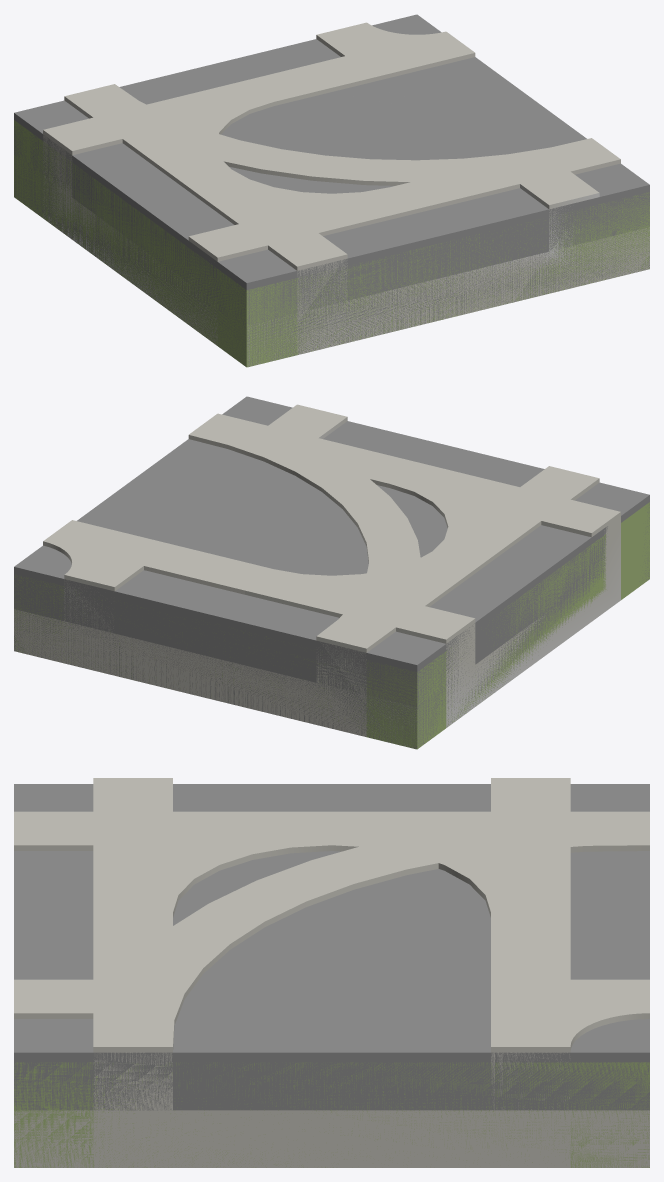
File: kenney_road_tiles.glb
The picture shows the model from 3 angles, top to bottom: view 1: azimuth 30°, elevation 25°; view 2: azimuth 150°, elevation 25°; view 3: azimuth 270°, elevation 25°; orthographic projection. The views are drawn at different scales.
Visible parts, largest first — view 1: roadTile_034, roadTile_027, roadTile_141, roadTile_030, roadTile_162, roadTile_038, roadTile_026, roadTile_153, roadTile_035, roadTile_150, roadTile_163; view 2: roadTile_027, roadTile_034, roadTile_141, roadTile_038, roadTile_035, roadTile_026, roadTile_162, roadTile_153, roadTile_030, roadTile_150; view 3: roadTile_027, roadTile_034, roadTile_141, roadTile_162, roadTile_026, roadTile_153, roadTile_035, roadTile_038, roadTile_163, roadTile_030, roadTile_150.
Part boxes in pixels (x1=…): roadTile_034: x1=14, y1=15, x2=649, y2=366; roadTile_027: x1=14, y1=14, x2=649, y2=367; roadTile_141: x1=14, y1=22, x2=649, y2=364; roadTile_030: x1=15, y1=40, x2=560, y2=366; roadTile_162: x1=46, y1=32, x2=649, y2=365; roadTile_038: x1=93, y1=33, x2=637, y2=366; roadTile_026: x1=157, y1=32, x2=620, y2=213; roadTile_153: x1=65, y1=23, x2=617, y2=185; roadTile_035: x1=70, y1=15, x2=620, y2=244; roadTile_150: x1=137, y1=82, x2=649, y2=354; roadTile_163: x1=247, y1=195, x2=649, y2=366; roadTile_027: x1=14, y1=396, x2=649, y2=749; roadTile_034: x1=14, y1=396, x2=649, y2=748; roadTile_141: x1=14, y1=404, x2=649, y2=747; roadTile_038: x1=47, y1=414, x2=649, y2=682; roadTile_035: x1=16, y1=414, x2=560, y2=651; roadTile_026: x1=46, y1=414, x2=506, y2=600; roadTile_162: x1=14, y1=414, x2=619, y2=746; roadTile_153: x1=43, y1=413, x2=420, y2=648; roadTile_030: x1=79, y1=422, x2=648, y2=747; roadTile_150: x1=183, y1=421, x2=543, y2=637; roadTile_027: x1=14, y1=811, x2=649, y2=1167; roadTile_034: x1=14, y1=784, x2=649, y2=1052; roadTile_141: x1=14, y1=778, x2=649, y2=1167; roadTile_162: x1=93, y1=778, x2=570, y2=1051; roadTile_026: x1=93, y1=811, x2=570, y2=1047; roadTile_153: x1=96, y1=812, x2=649, y2=1050; roadTile_035: x1=93, y1=811, x2=649, y2=1167; roadTile_038: x1=94, y1=811, x2=570, y2=1166; roadTile_163: x1=14, y1=1062, x2=649, y2=1167; roadTile_030: x1=14, y1=784, x2=649, y2=984; roadTile_150: x1=15, y1=851, x2=640, y2=996.
Bounding box in the file's own units: 3 × 0.63 × 3.
